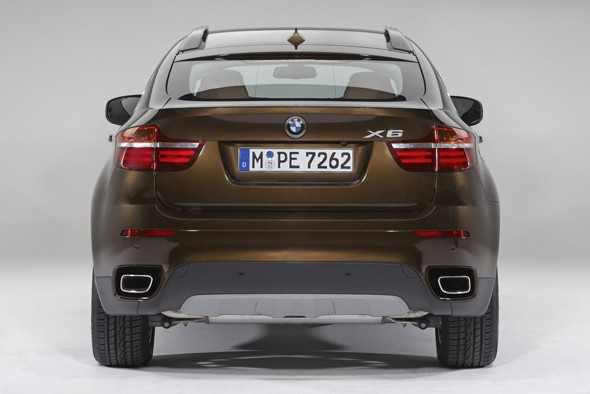bmw: (86, 21, 502, 372)
